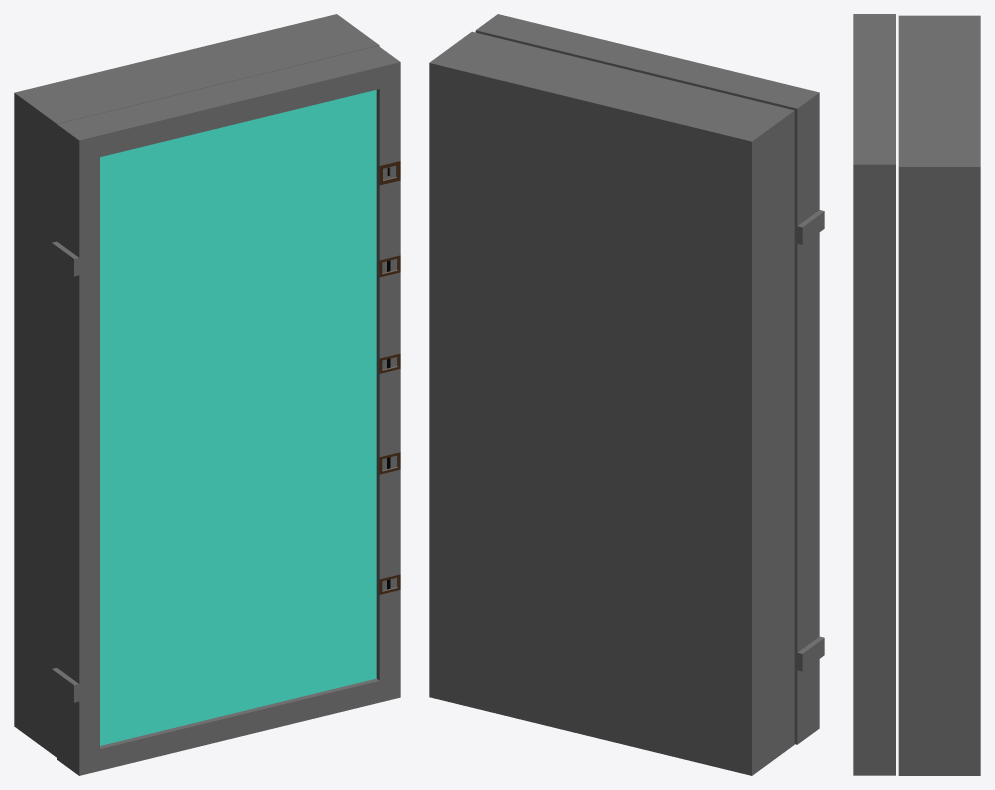
File: AxeCabinet.FBX
3 renders of one model, left to right at view 1: azimuth 30°, elevation 25°; view 2: azimuth 150°, elevation 25°; view 3: azimuth 270°, elevation 25°, orthographic. The views are drawn at different scales.
Visible parts, largest first — view 1: CabinetDoor, AxeCabinet; view 2: AxeCabinet, CabinetDoor; view 3: AxeCabinet, CabinetDoor.
Boxes of the visible parts, <box> form: CabinetDoor: <box>52,46,400,775</box>; AxeCabinet: <box>14,14,379,757</box>; AxeCabinet: <box>429,31,794,775</box>; CabinetDoor: <box>475,14,824,744</box>; AxeCabinet: <box>898,15,980,775</box>; CabinetDoor: <box>853,14,895,775</box>.
Bounding box in the file's own units: 197 × 364 × 68.66.
